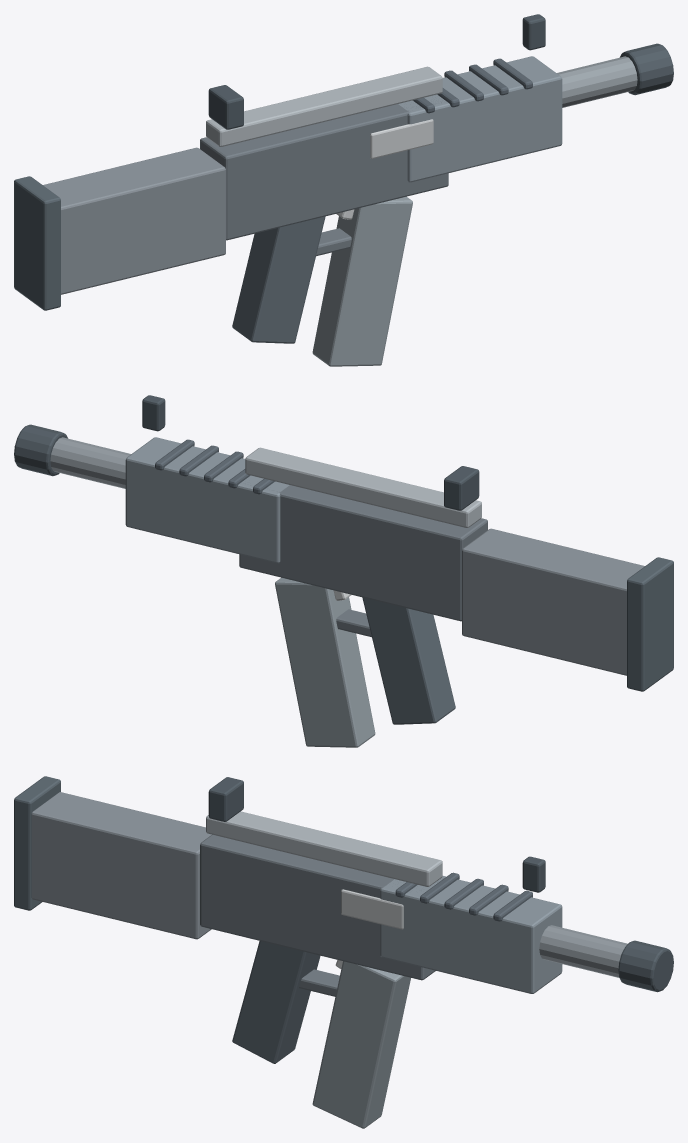
File: smg.glb
3 views of the same model, one above another, from view 1: azimuth 30°, elevation 25°; view 2: azimuth 150°, elevation 25°; view 3: azimuth 330°, elevation 25° (orthographic).
Visible parts, largest first — view 1: smg_枪托, smg_机匣, smg_护木, smg_弹匣, smg_握把, smg_顶导轨, smg_托底, smg_枪管, smg_枪口套, smg_抛壳窗, smg_照门, smg_准星 (+1 smaller); view 2: smg_枪托, smg_机匣, smg_护木, smg_弹匣, smg_握把, smg_顶导轨, smg_托底, smg_枪管, smg_枪口套, smg_照门, smg_准星, smg_扳机护圈下; view 3: smg_枪托, smg_机匣, smg_护木, smg_弹匣, smg_顶导轨, smg_握把, smg_枪管, smg_托底, smg_枪口套, smg_抛壳窗, smg_照门, smg_准星 (+1 smaller).
Part boxes in pixels (left/top/right/bottom): smg_枪托: left=43, top=147, right=225, bottom=294; smg_机匣: left=200, top=95, right=448, bottom=240; smg_护木: left=398, top=56, right=562, bottom=182; smg_弹匣: left=312, top=196, right=412, bottom=366; smg_握把: left=232, top=216, right=325, bottom=343; smg_顶导轨: left=206, top=66, right=442, bottom=146; smg_托底: left=14, top=176, right=60, bottom=310; smg_枪管: left=557, top=56, right=637, bottom=107; smg_枪口套: left=620, top=43, right=673, bottom=95; smg_抛壳窗: left=370, top=119, right=433, bottom=158; smg_照门: left=208, top=85, right=243, bottom=129; smg_准星: left=522, top=14, right=545, bottom=50; smg_枪托: left=462, top=528, right=644, bottom=675; smg_机匣: left=239, top=483, right=487, bottom=621; smg_护木: left=125, top=437, right=289, bottom=563; smg_弹匣: left=275, top=577, right=375, bottom=747; smg_握把: left=362, top=597, right=455, bottom=724; smg_顶导轨: left=245, top=447, right=481, bottom=527; smg_托底: left=627, top=557, right=673, bottom=691; smg_枪管: left=50, top=437, right=130, bottom=488; smg_枪口套: left=14, top=424, right=67, bottom=476; smg_照门: left=444, top=466, right=479, bottom=510; smg_准星: left=142, top=395, right=165, bottom=431; smg_扳机护圈下: left=336, top=609, right=371, bottom=637; smg_枪托: left=31, top=792, right=211, bottom=939; smg_机匣: left=200, top=834, right=443, bottom=980; smg_护木: left=380, top=876, right=562, bottom=993; smg_弹匣: left=312, top=961, right=410, bottom=1128; smg_顶导轨: left=206, top=811, right=442, bottom=886; smg_握把: left=232, top=941, right=320, bottom=1063; smg_枪管: left=539, top=925, right=627, bottom=977; smg_托底: left=14, top=776, right=60, bottom=910; smg_枪口套: left=618, top=940, right=673, bottom=992; smg_抛壳窗: left=341, top=889, right=403, bottom=929; smg_照门: left=208, top=777, right=243, bottom=821; smg_准星: left=522, top=856, right=545, bottom=892.
Size of the model in its own units: 0.9075 by 0.413 by 0.082.
